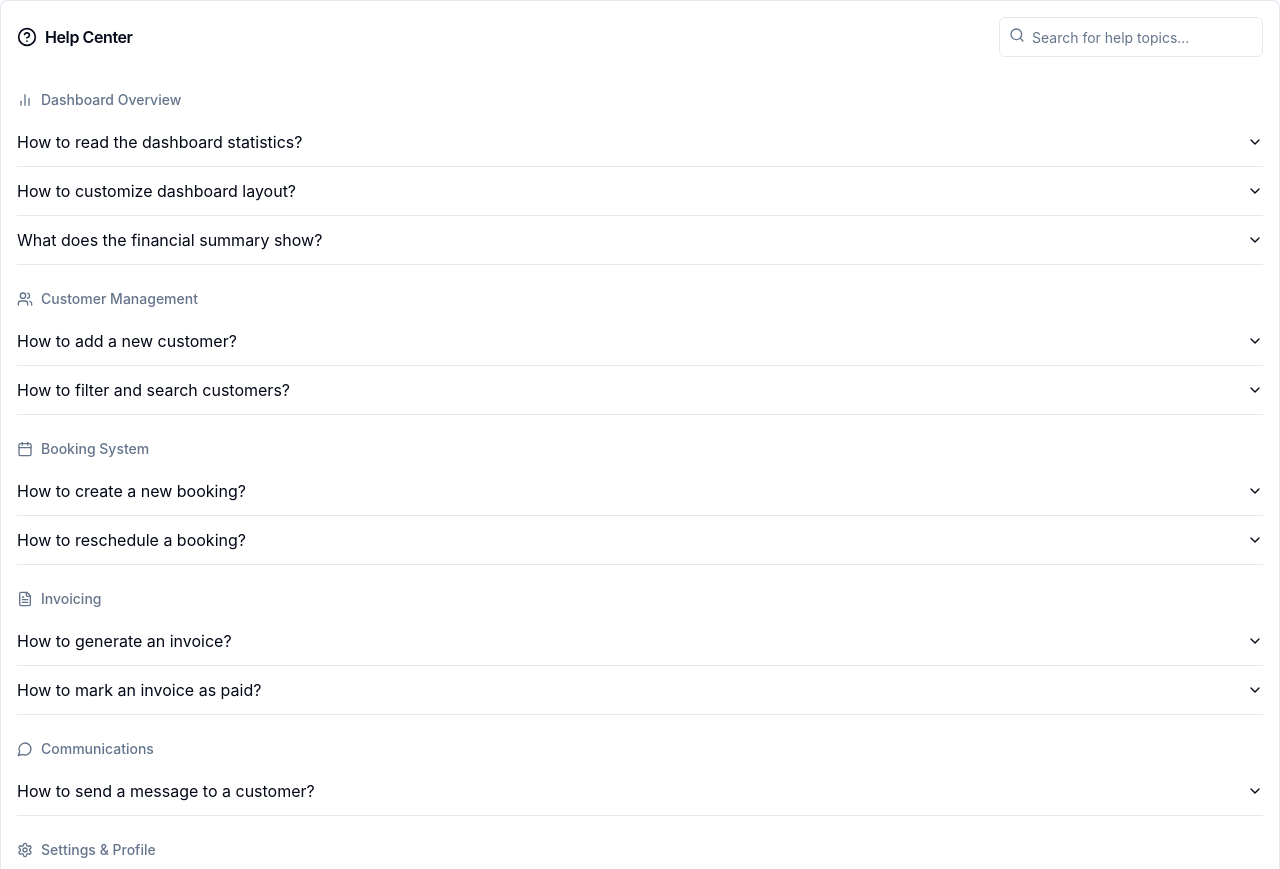
Test case: HelpCenter Component › search functionality works
// Search for a specific term
Type "invoice" into the search field with placeholder "Search for help topics..." at [1131, 37], box [999,17,1263,57]
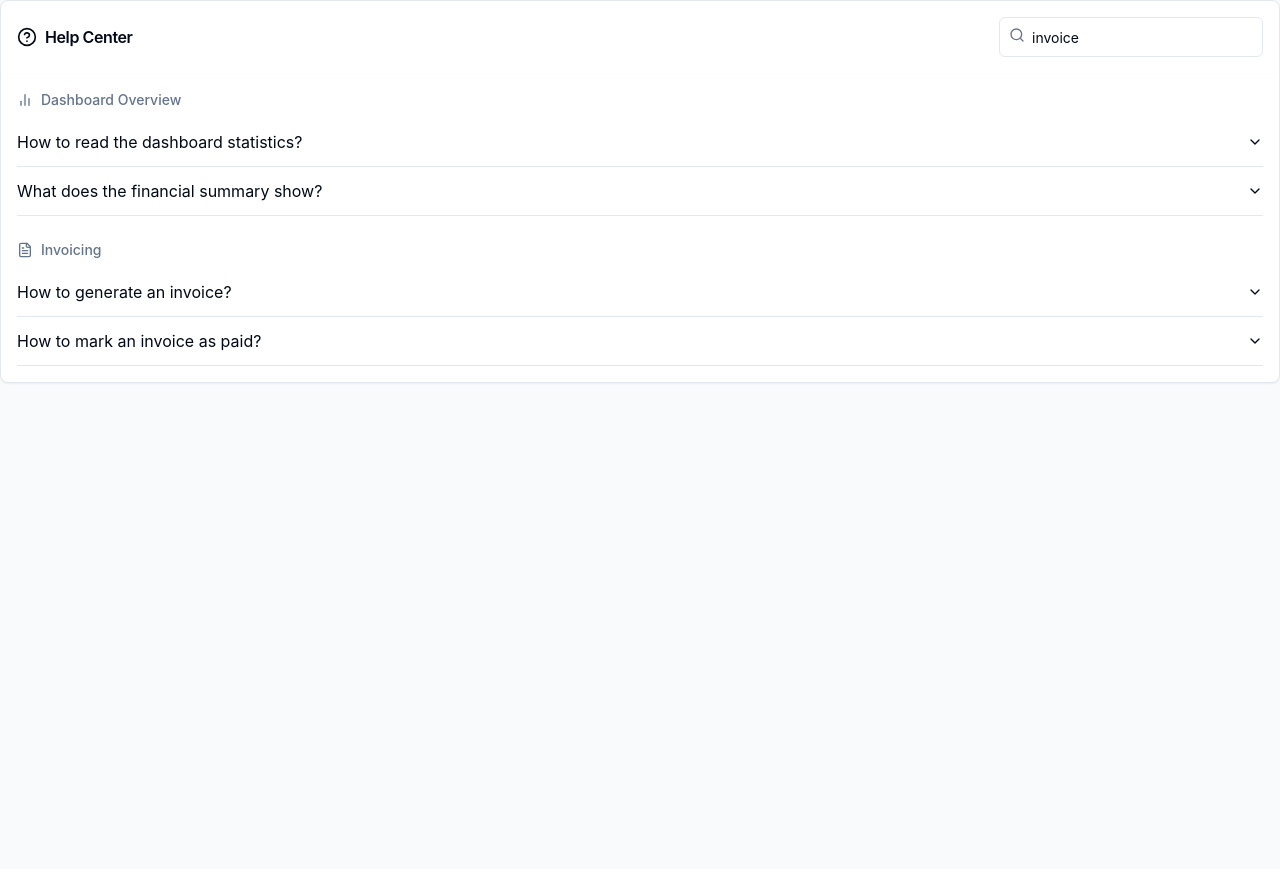
Expected: the button "How to generate an invoice?" is shown, [17,268,1263,316]
Expected: the button "How to add a new customer?" is gone
// Clear search
Clear the search field with placeholder "Search for help topics..." at [1131, 37], box [999,17,1263,57]
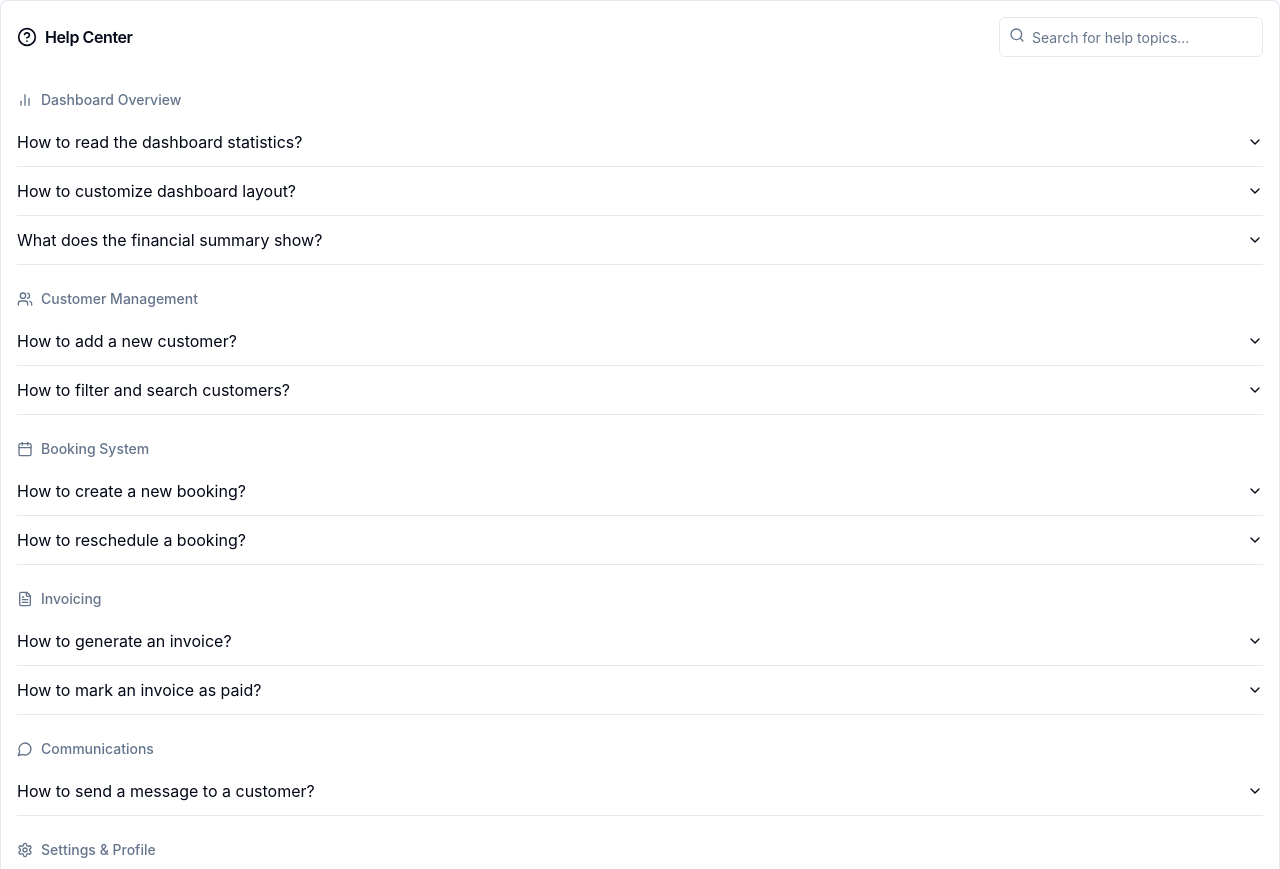
Expected: the button "How to add a new customer?" is shown, [17,317,1263,365]
